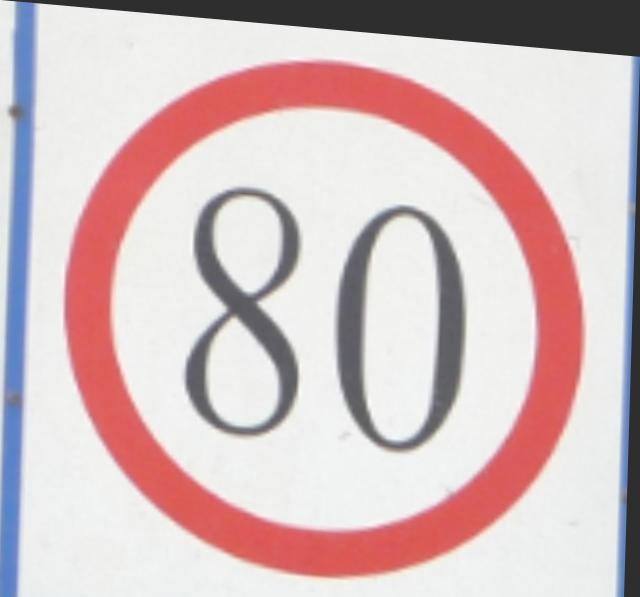limit80: (51, 22, 602, 597)
